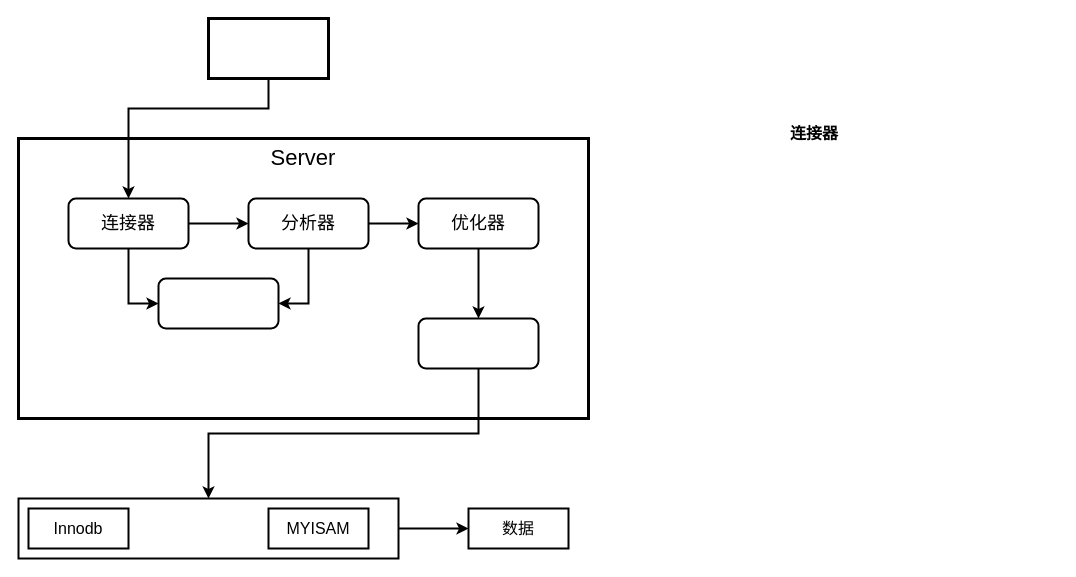
The diagram is 1076 pixels wide and 577 high, and some of its shapes have lost their labels. The shapes that lost their labels are listed below. From the top down, each one's box as (x1, y1, x2, y2) in pixels, then its label:
(206, 16, 330, 80): 客户端
(157, 277, 279, 329): 查询缓存
(417, 317, 539, 369): 执行器
(17, 497, 399, 559): 存储引擎
